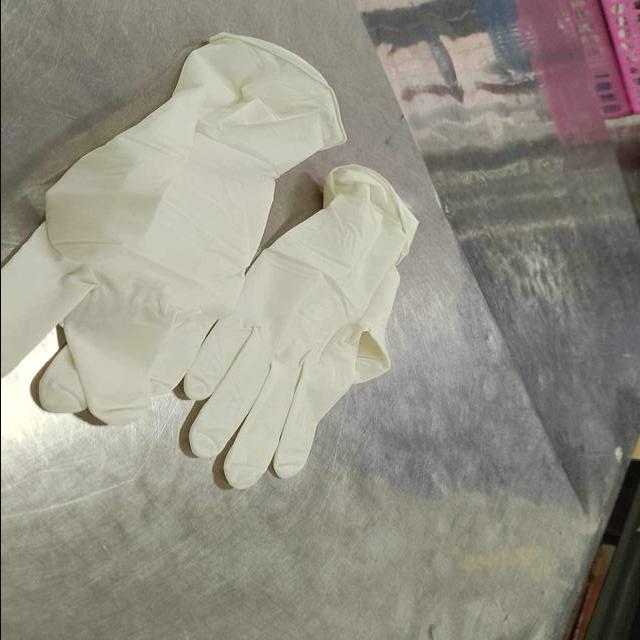General: (6, 31, 420, 492)
Infectious: (175, 164, 420, 490)
Sharps: (3, 398, 182, 525)
